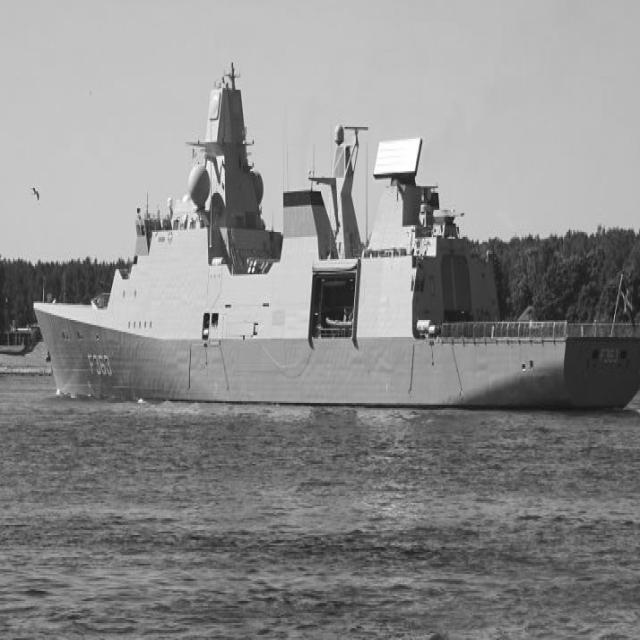Fragata: (31, 62, 640, 411)
